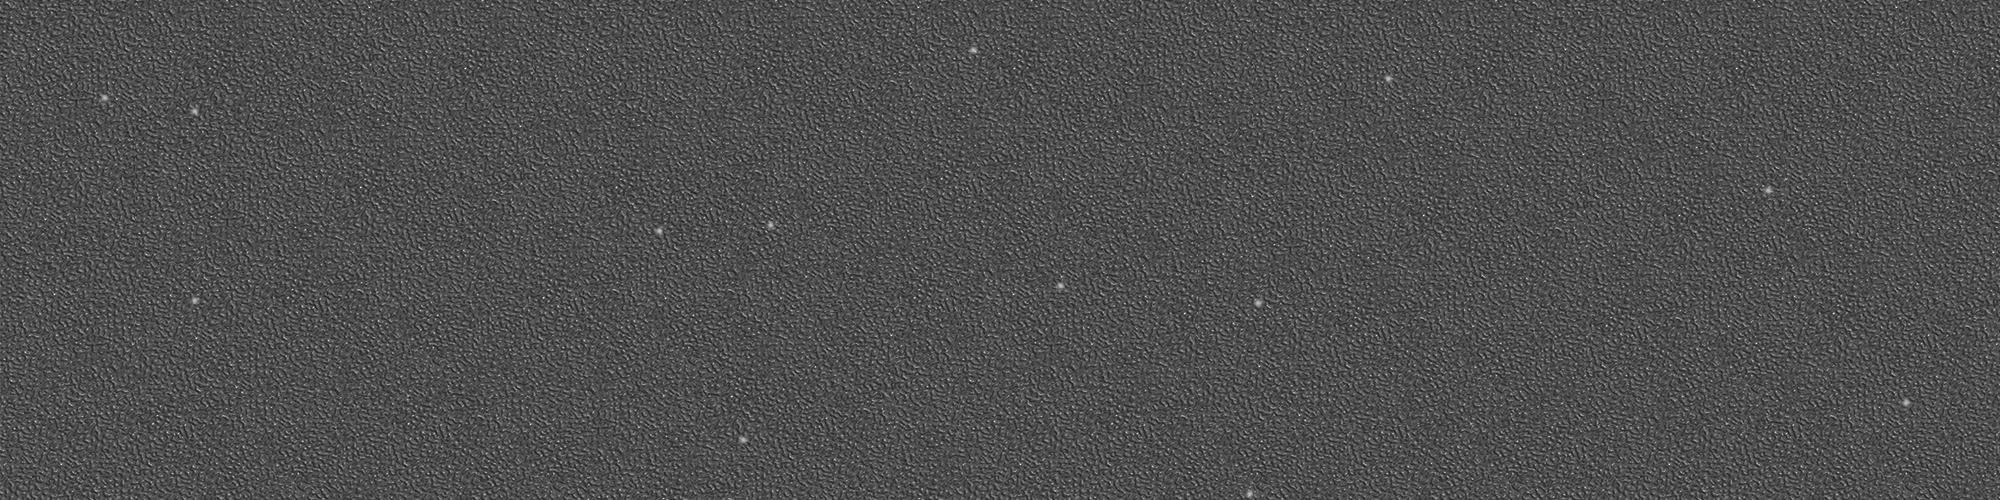Particles: (1249, 293, 1267, 315), (966, 42, 983, 61), (761, 217, 779, 233), (185, 105, 205, 119), (733, 434, 753, 448), (187, 292, 200, 309), (1054, 281, 1070, 293), (98, 91, 112, 105), (1899, 395, 1913, 409), (652, 226, 668, 237), (1381, 73, 1395, 85), (1761, 184, 1776, 196), (1242, 486, 1258, 497)
